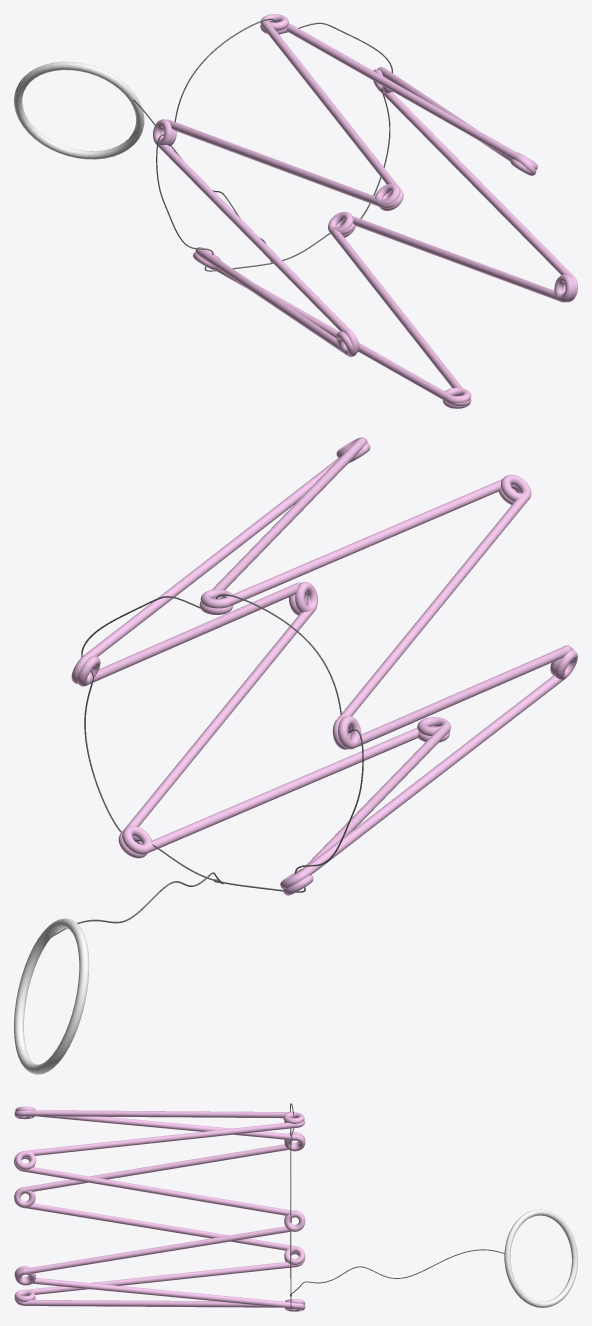
The model's file is rojas_old.glb.
3 renders of one model, top to bottom at view 1: azimuth 30°, elevation 25°; view 2: azimuth 150°, elevation 25°; view 3: azimuth 270°, elevation 25°, orthographic. The views are drawn at different scales.
Visible parts, largest first — view 1: ROJAS v22; view 2: ROJAS v22; view 3: ROJAS v22.
Boxes of the visible parts, left/top/right/bottom form: ROJAS v22: left=14, top=14, right=577, bottom=408; ROJAS v22: left=14, top=437, right=577, bottom=1074; ROJAS v22: left=14, top=1103, right=577, bottom=1311.
Size of the model in its own units: 6.61 by 7.05 by 18.29.
